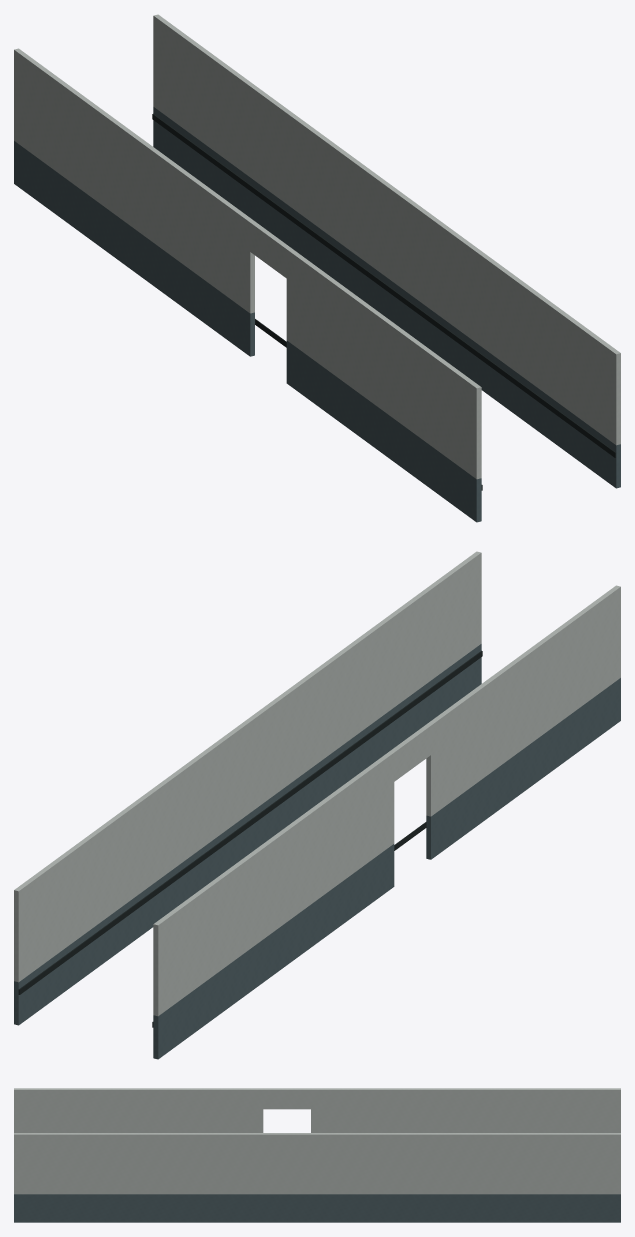
File: D04_STAFF_WALL_PORTAL_PATCH_r001.glb
3 renders of one model, top to bottom at view 1: azimuth 30°, elevation 25°; view 2: azimuth 150°, elevation 25°; view 3: azimuth 270°, elevation 25°, orthographic. The views are drawn at different scales.
Parts seen in each view (by area): view 1: HOME_BATCH_182_ASTRAEA_staff_white_paint, HOME_BATCH_015_ASTRAEA_staff_bluegrey_paint, HOME_BATCH_132_ASTRAEA_staff_rubber; view 2: HOME_BATCH_182_ASTRAEA_staff_white_paint, HOME_BATCH_015_ASTRAEA_staff_bluegrey_paint, HOME_BATCH_132_ASTRAEA_staff_rubber; view 3: HOME_BATCH_182_ASTRAEA_staff_white_paint, HOME_BATCH_015_ASTRAEA_staff_bluegrey_paint.
Boxes of the visible parts, x1=… form: HOME_BATCH_182_ASTRAEA_staff_white_paint: x1=14, y1=14, x2=620, y2=479; HOME_BATCH_015_ASTRAEA_staff_bluegrey_paint: x1=14, y1=107, x2=620, y2=522; HOME_BATCH_132_ASTRAEA_staff_rubber: x1=152, y1=113, x2=616, y2=490; HOME_BATCH_182_ASTRAEA_staff_white_paint: x1=14, y1=551, x2=620, y2=1016; HOME_BATCH_015_ASTRAEA_staff_bluegrey_paint: x1=14, y1=644, x2=620, y2=1059; HOME_BATCH_132_ASTRAEA_staff_rubber: x1=18, y1=650, x2=482, y2=1027; HOME_BATCH_182_ASTRAEA_staff_white_paint: x1=14, y1=1088, x2=620, y2=1194; HOME_BATCH_015_ASTRAEA_staff_bluegrey_paint: x1=14, y1=1194, x2=620, y2=1222.
Bounding box in the file's own units: 3.6 × 3.2 × 20.
3 materials, 3 textured.
